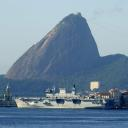Portanaves: (14, 84, 116, 112)
